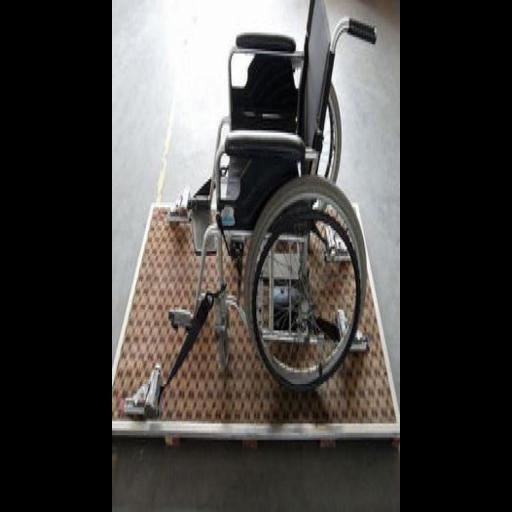cadeira_de_rodas: (192, 0, 369, 383)
